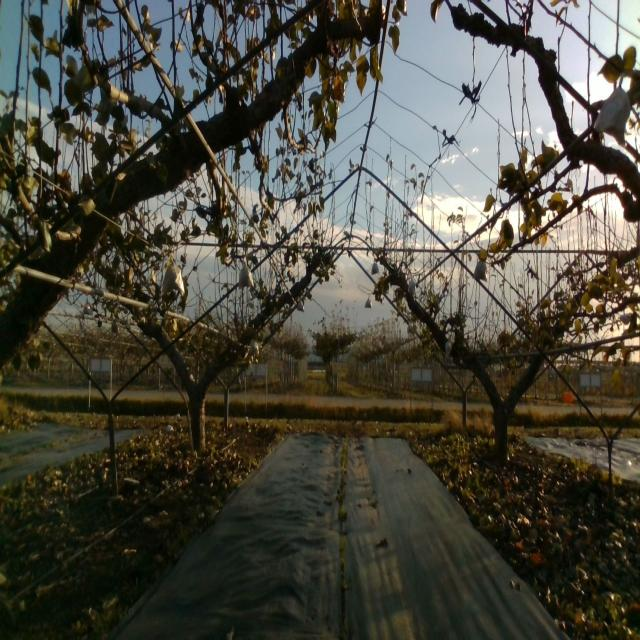pearbags: (592, 72, 631, 148), (161, 258, 185, 296), (239, 262, 254, 288), (473, 260, 488, 281)
